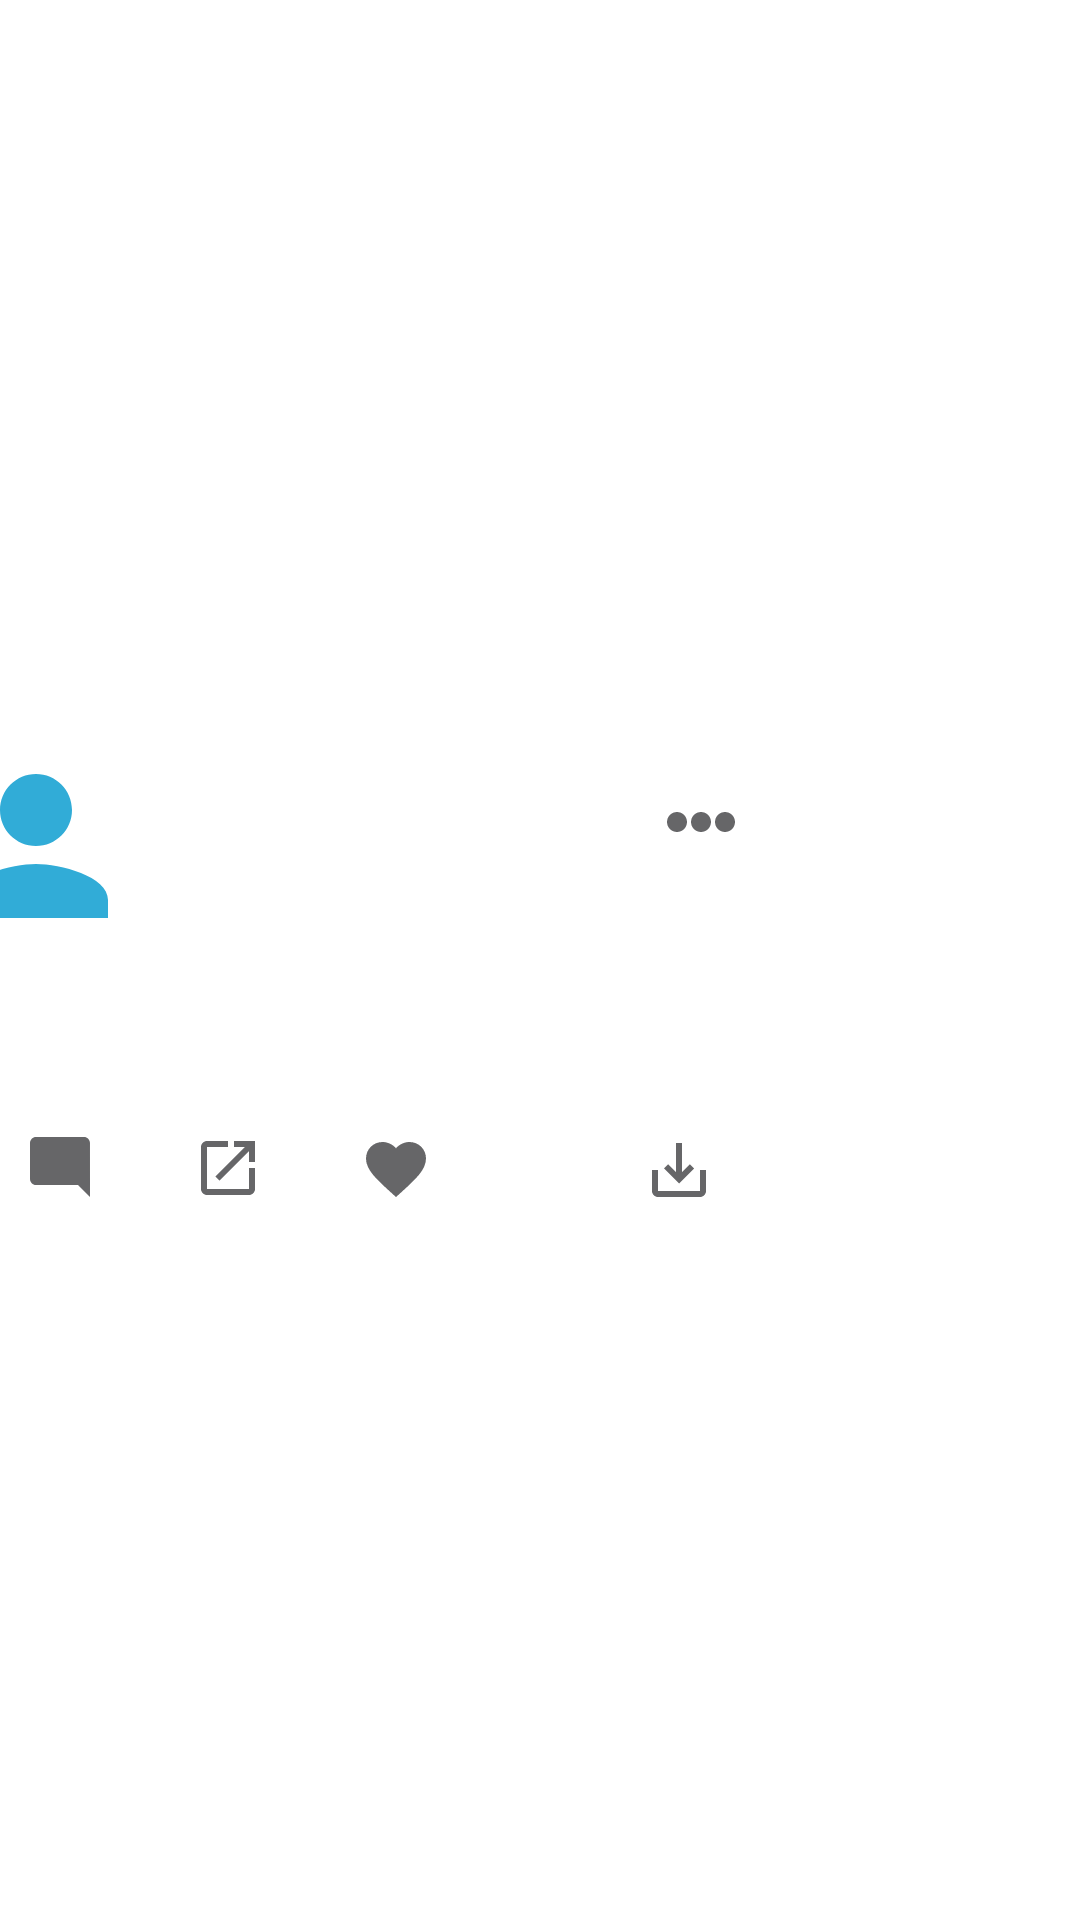

Point at icon controls on the screen. Image size 1080*1920, points as (x,y).
favorite: (396,1169)
mode comment: (60,1167)
open in: (228,1168)
save: (679,1170)
